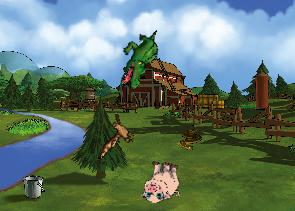crocodile: (119, 28, 159, 90)
eagle: (97, 112, 136, 161)
pig: (140, 159, 182, 204)
